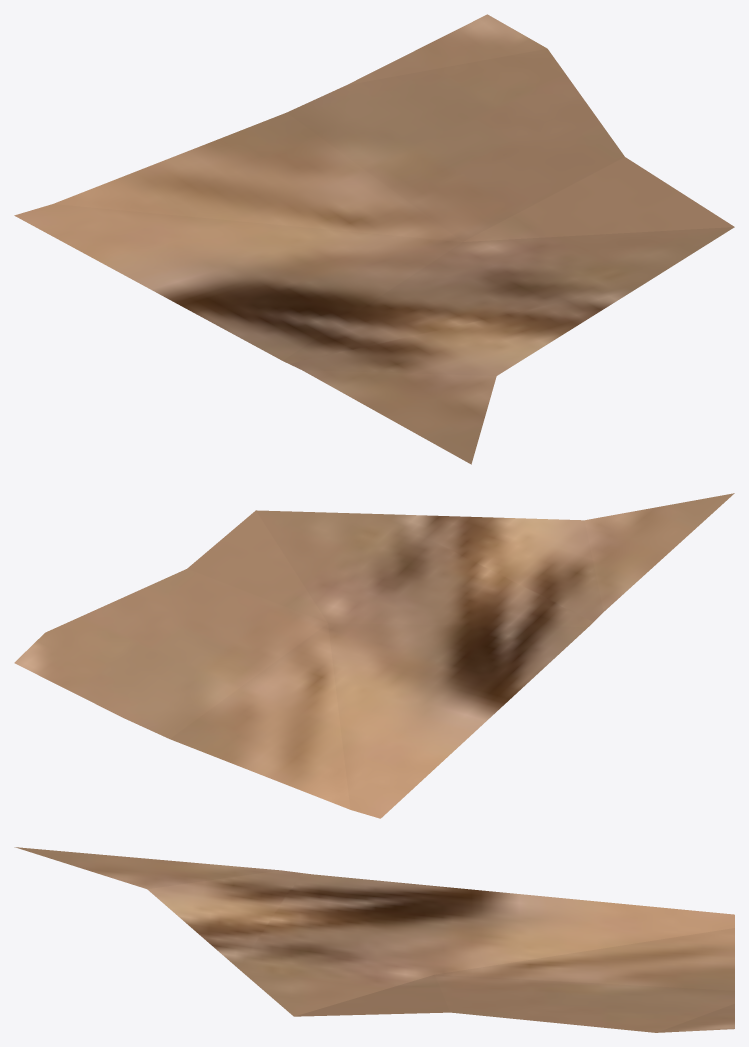
3 renders of one model, top to bottom at view 1: azimuth 30°, elevation 25°; view 2: azimuth 150°, elevation 25°; view 3: azimuth 270°, elevation 25°, orthographic. The views are drawn at different scales.
Bounding box in the file's own units: 0.1831 × 0.031 × 0.3001.
1 material, 1 textured.
